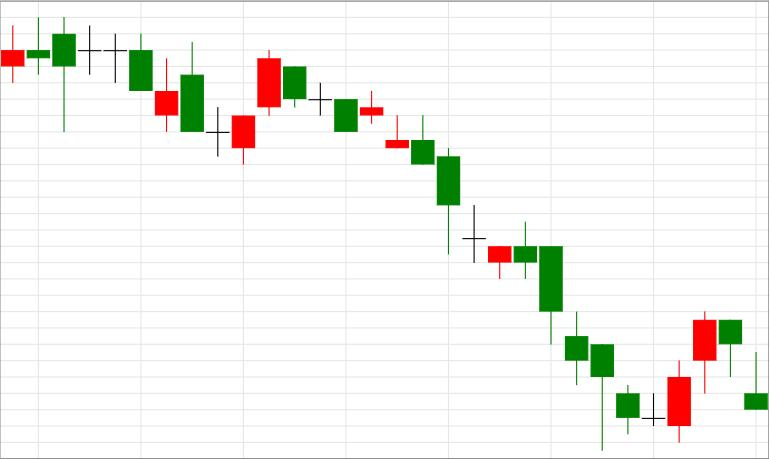hammer_rise: (514, 221, 614, 451)
